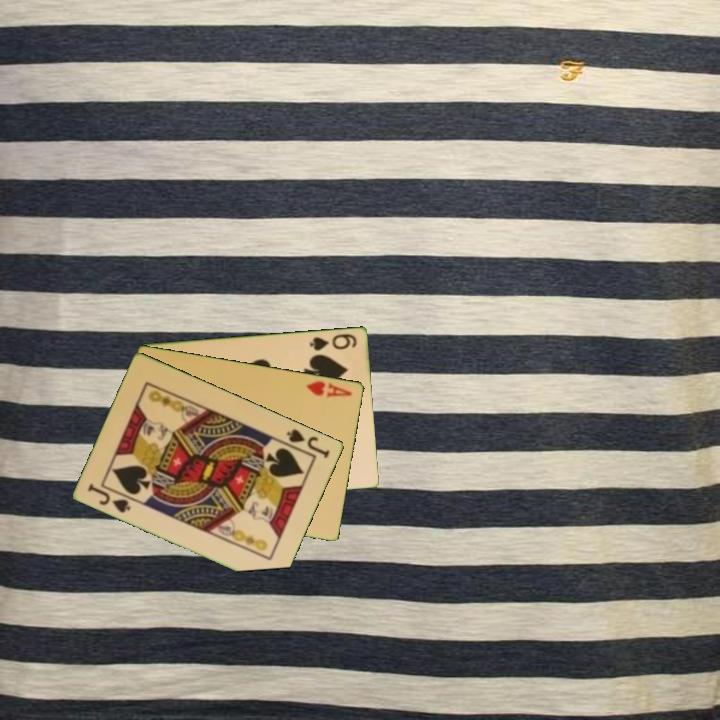6s: (306, 330, 360, 353)
Ah: (303, 377, 355, 401)
Js: (85, 480, 137, 516), (283, 425, 333, 461)
